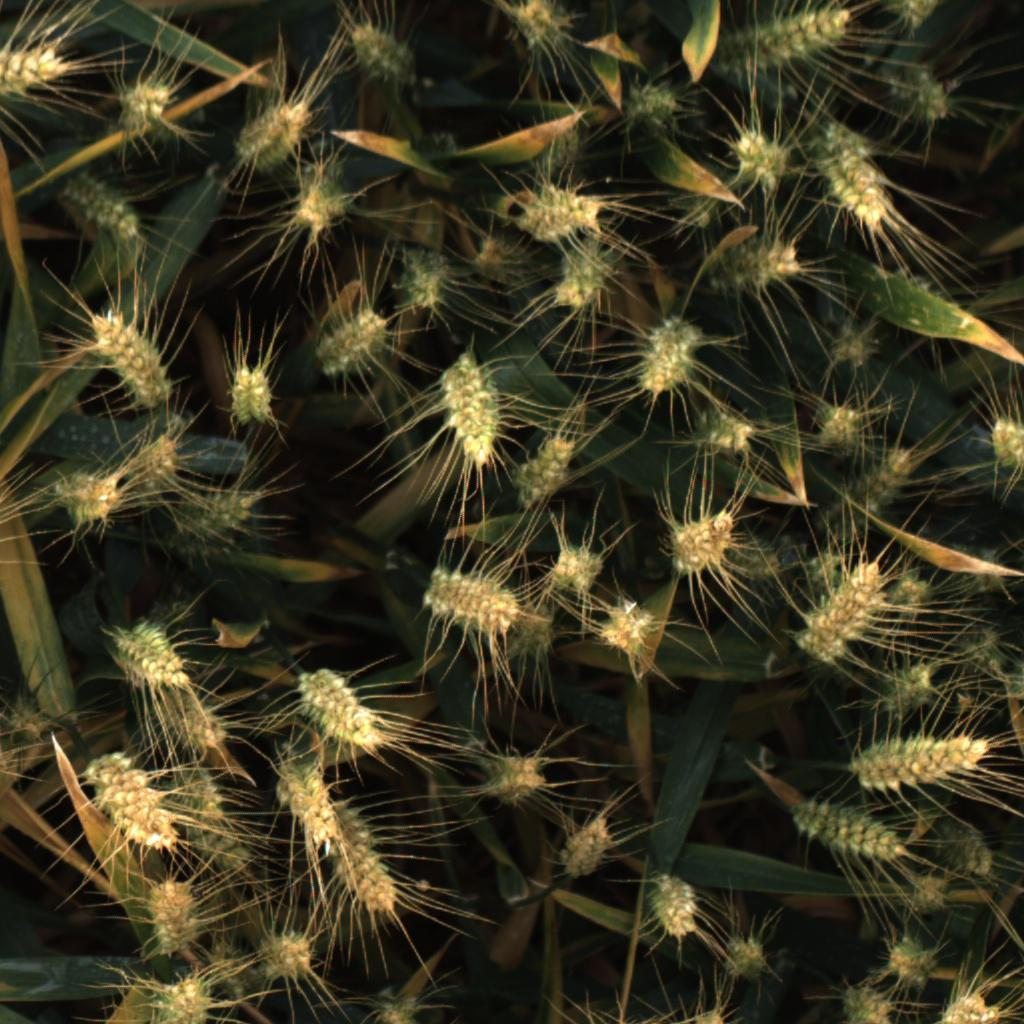0-0: (81, 745, 184, 857), (317, 791, 399, 924), (718, 4, 852, 85), (800, 555, 894, 667), (71, 307, 178, 404), (846, 728, 999, 794), (287, 667, 390, 763), (815, 114, 888, 240), (830, 445, 929, 531), (433, 350, 504, 469), (782, 801, 914, 865), (279, 145, 366, 239), (422, 562, 528, 639), (181, 772, 255, 882), (174, 475, 276, 552), (306, 296, 392, 386), (695, 234, 804, 302), (230, 89, 315, 174), (58, 172, 148, 251), (138, 869, 212, 960), (272, 758, 345, 845), (513, 176, 606, 244), (344, 13, 428, 88), (626, 317, 701, 399), (663, 497, 742, 572), (723, 122, 798, 201), (108, 617, 195, 685), (161, 695, 242, 766), (516, 425, 583, 509), (548, 240, 619, 319), (587, 596, 660, 670), (479, 740, 551, 809), (56, 465, 127, 532), (226, 353, 284, 435), (253, 926, 327, 990), (107, 71, 176, 139), (545, 535, 614, 603), (556, 808, 618, 883), (126, 424, 184, 504), (0, 43, 71, 108), (712, 529, 790, 588), (139, 970, 224, 1024), (874, 650, 943, 716), (646, 874, 709, 945), (680, 407, 764, 460), (617, 73, 686, 137), (890, 64, 958, 126), (938, 819, 1002, 884), (397, 241, 459, 308), (715, 924, 780, 986), (824, 318, 892, 377), (500, 0, 575, 52), (529, 120, 586, 188), (877, 934, 939, 991), (804, 400, 868, 455), (954, 625, 1012, 684), (833, 976, 900, 1024), (931, 983, 1009, 1024), (980, 415, 1024, 486), (890, 567, 942, 626), (3, 691, 53, 749), (903, 869, 957, 919), (358, 988, 432, 1024), (467, 229, 514, 284), (966, 546, 1013, 600), (885, 0, 952, 28), (950, 687, 982, 719), (673, 1006, 729, 1024), (1010, 651, 1024, 717)
